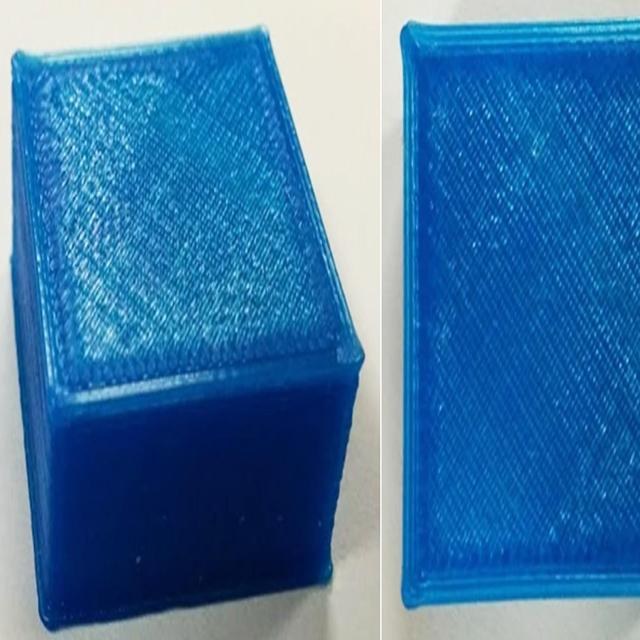Without deffect: (3, 23, 366, 632)
